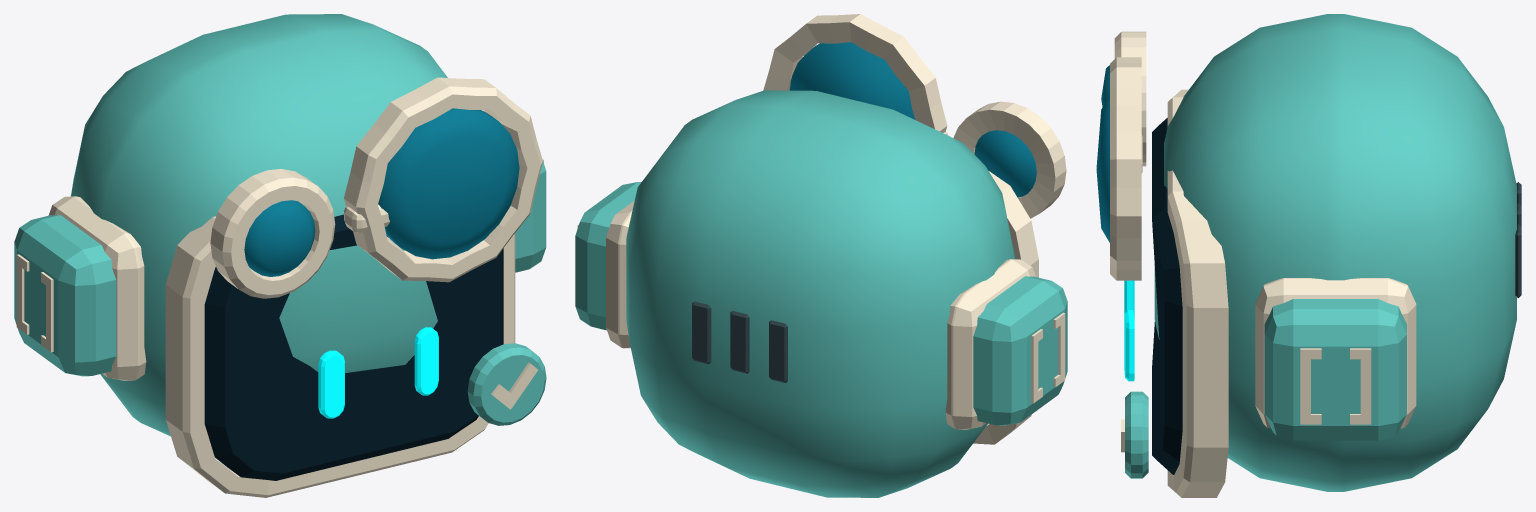
Rendered from copilot_tester_v01.glb.
The picture shows the model from 3 angles, left to right: view 1: azimuth 30°, elevation 25°; view 2: azimuth 150°, elevation 25°; view 3: azimuth 270°, elevation 25°; orthographic projection. The views are drawn at different scales.
Parts seen in each view (by area): view 1: tester_model; view 2: tester_model; view 3: tester_model.
Part boxes in pixels (<box>): tester_model: <box>14,14,546,497</box>; tester_model: <box>575,14,1067,497</box>; tester_model: <box>1096,14,1521,497</box>.
Size of the model in its own units: 2.49 by 1.95 by 1.79.
2 materials, 2 textured.
